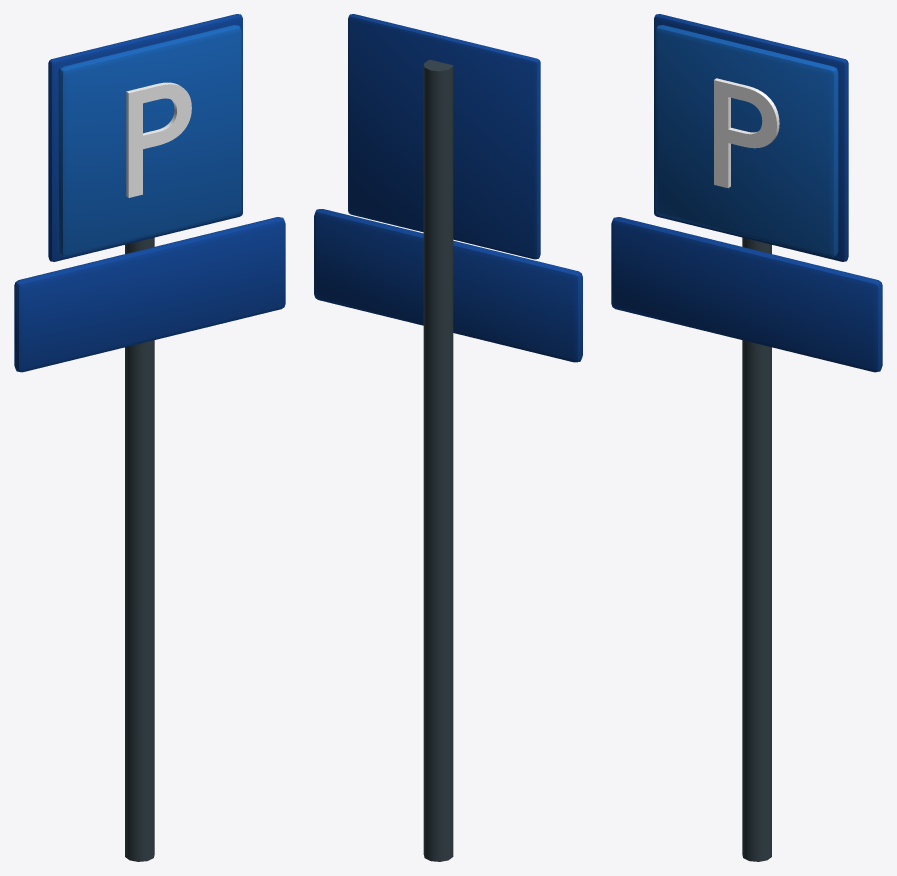
The model's file is parking_signpost.glb.
The picture shows the model from 3 angles, left to right: view 1: azimuth 30°, elevation 25°; view 2: azimuth 150°, elevation 25°; view 3: azimuth 330°, elevation 25°; orthographic projection.
Parts seen in each view (by area): view 1: Signpost; view 2: Signpost; view 3: Signpost.
Part boxes in pixels (x1=…): Signpost: x1=14, y1=14, x2=285, y2=861; Signpost: x1=314, y1=14, x2=582, y2=861; Signpost: x1=611, y1=14, x2=882, y2=861.
Size of the model in its own units: 0.92 by 2.68 by 0.14.
